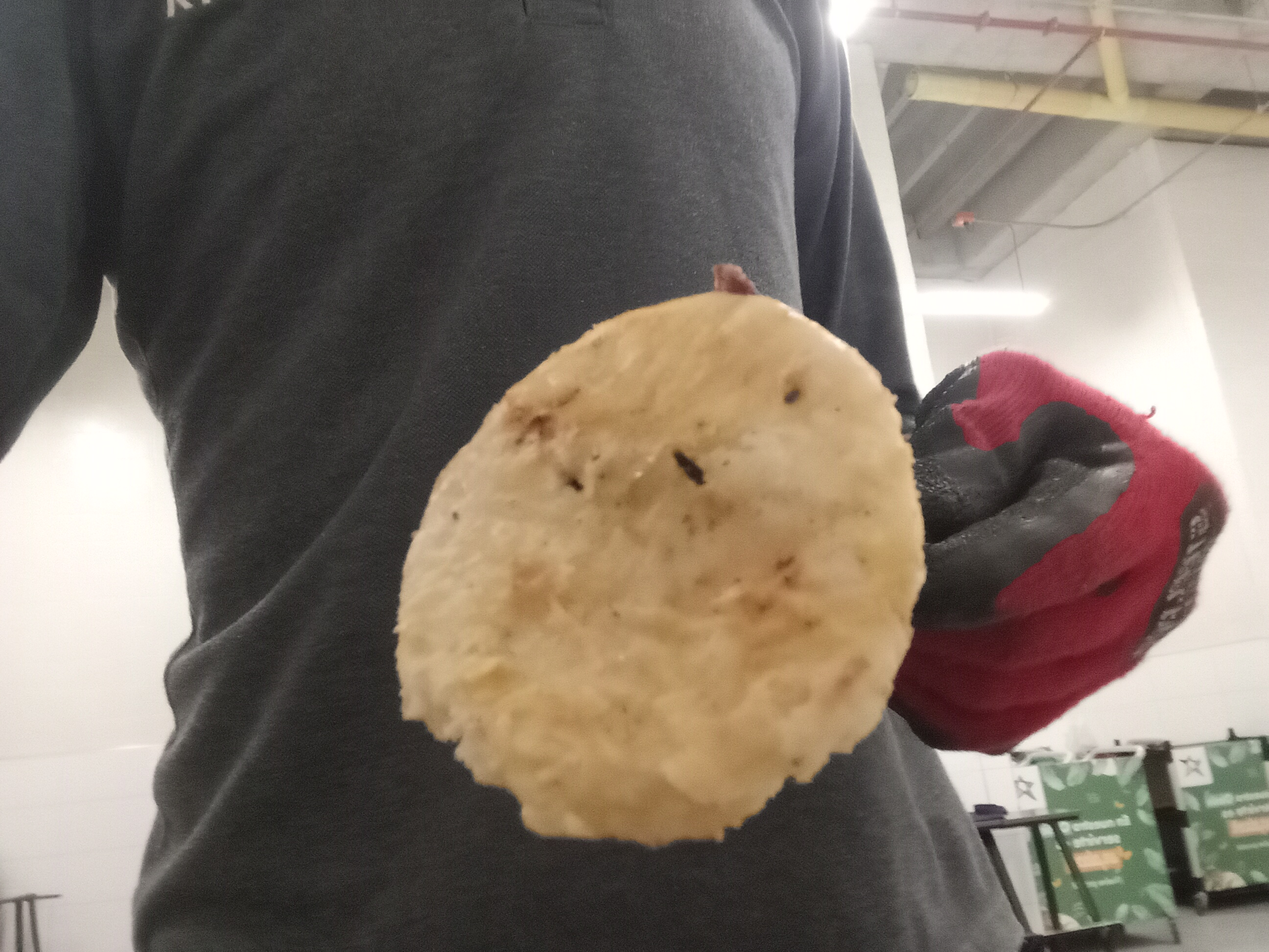Organico: (398, 293, 929, 850)
